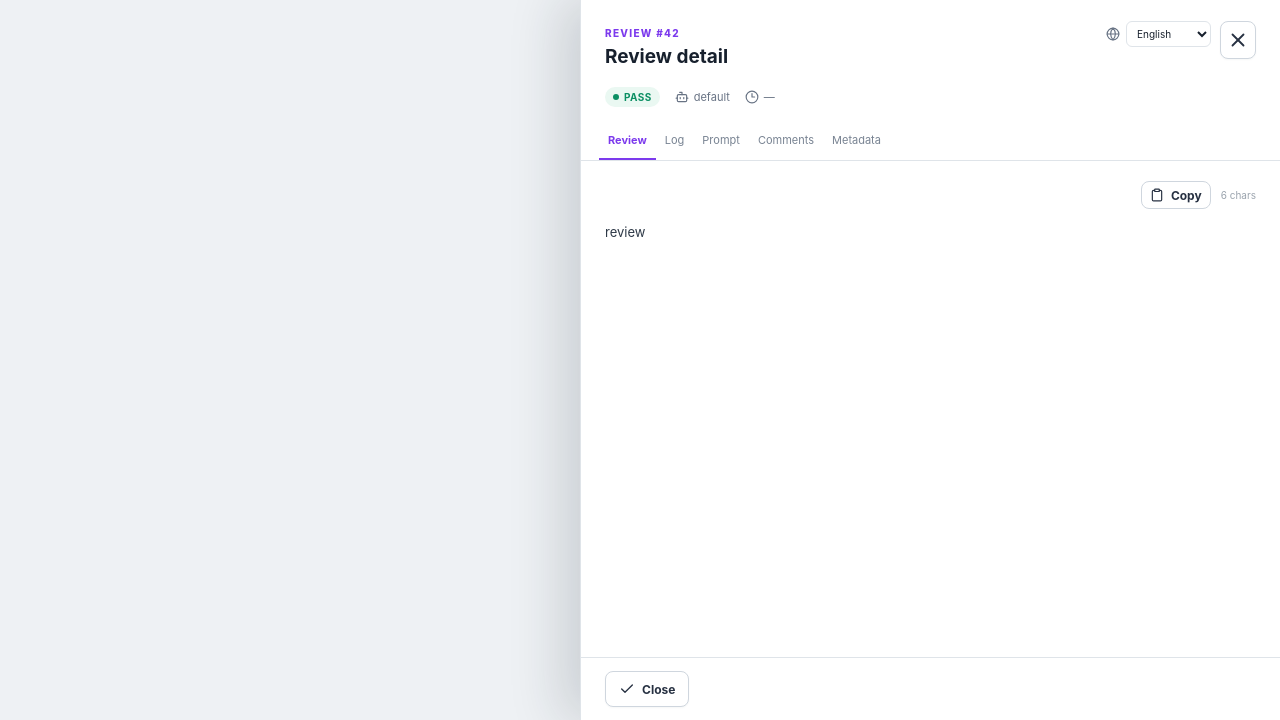
Test: ReviewDetail lazy Prompt/Log ownership › retries one failed Log request and keeps Prompt/Log sibling lifetimes independent
Expected: the text "review" is shown, [605,224,646,240]
Click the button "Log" at point(675, 141), box [656,122,693,160]
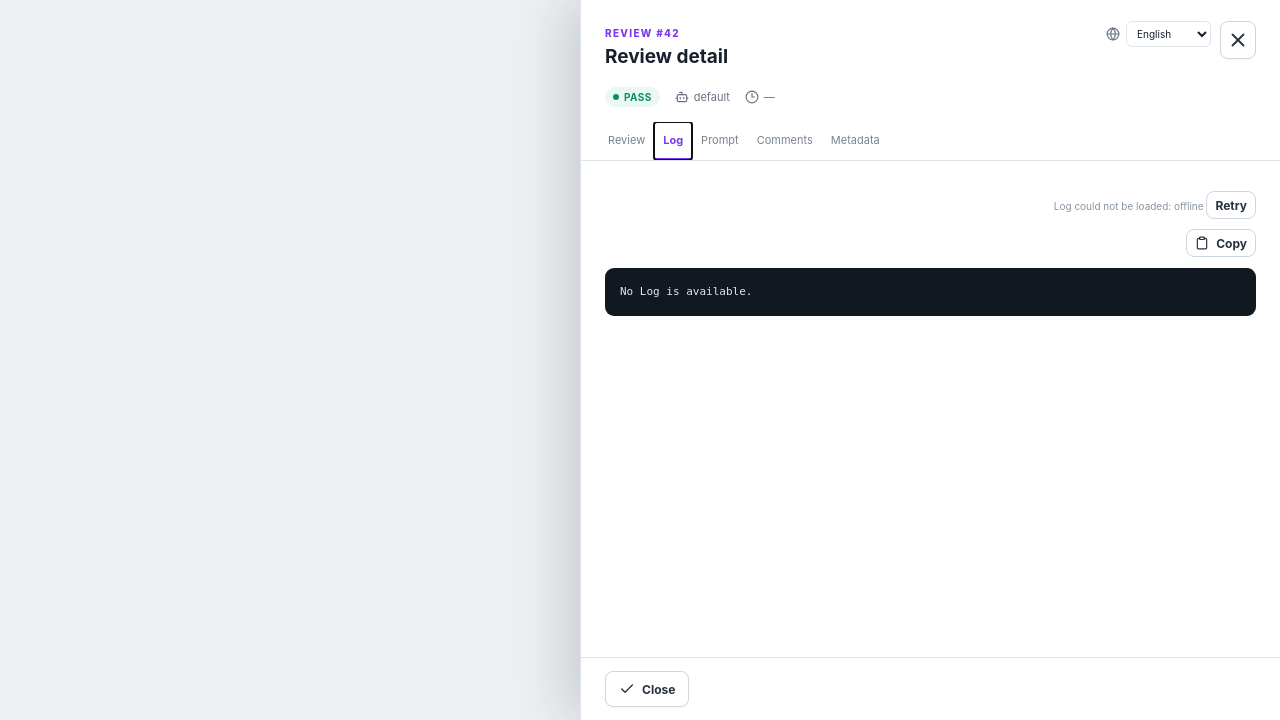
Now the message shows "offline", box [1054,200,1204,212]
Click the button "Retry" at point(1231, 205), box [1206,191,1256,219]
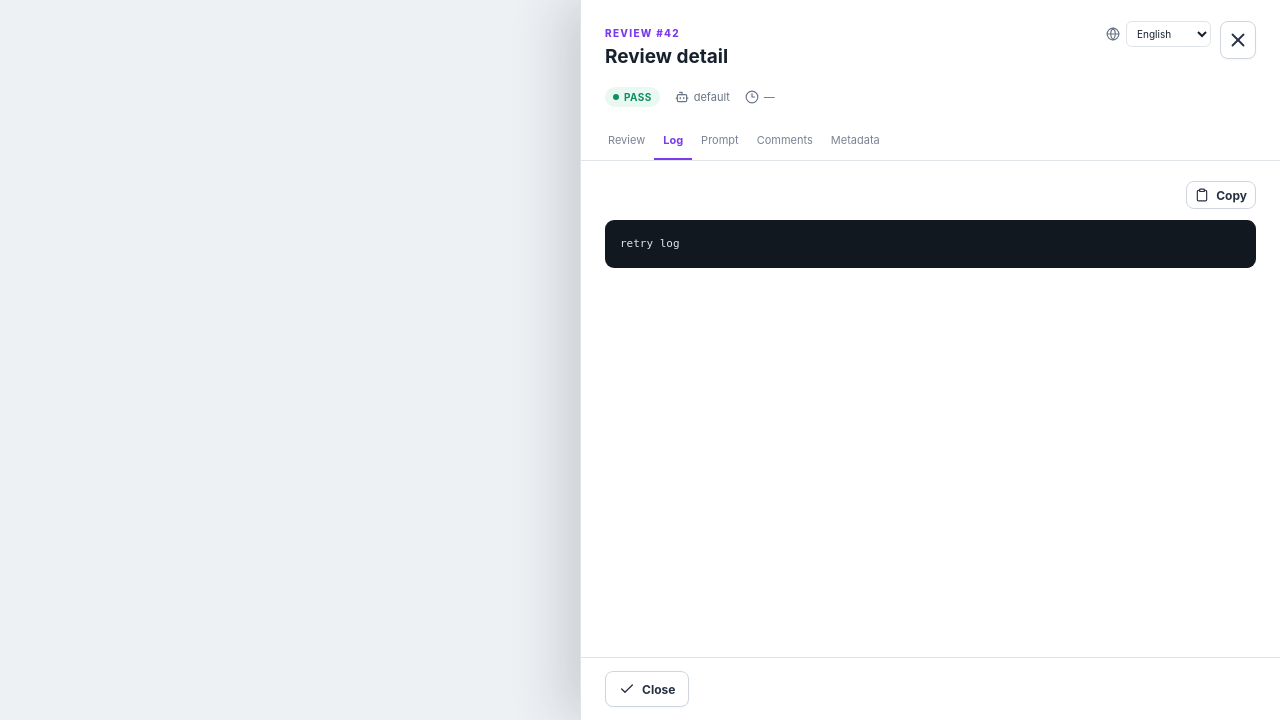
Now the text "retry log" is shown, box [605,220,1256,268]
Click the button "Prompt" at point(720, 141), box [692,122,748,160]
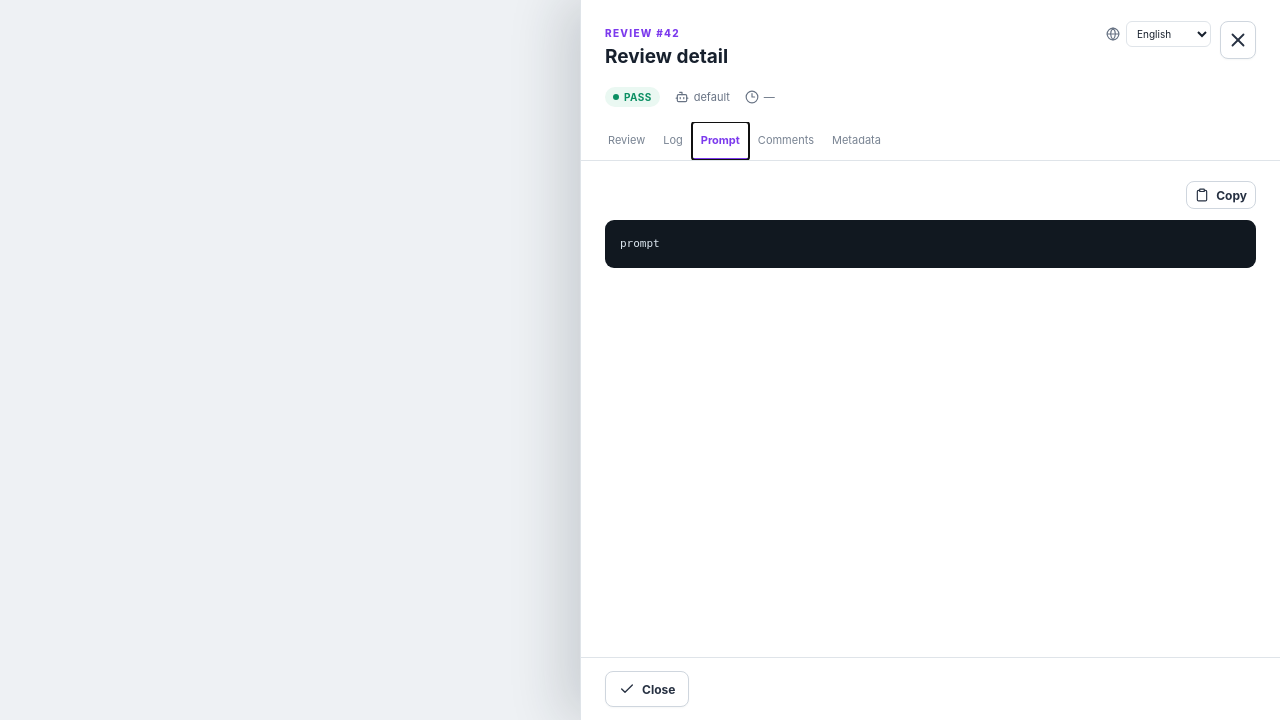
Now the text "prompt" is shown, box [605,220,1256,268]
